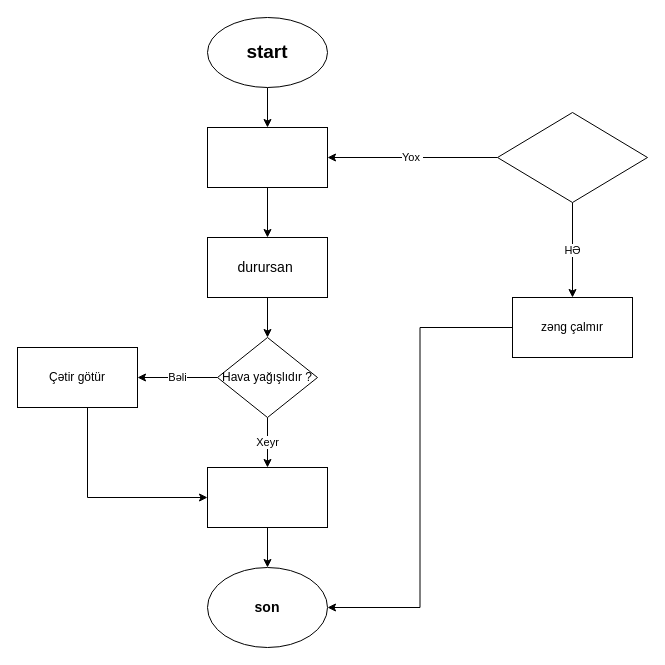
Image size: 665x665. Some labels were removed from this diagram. The centre of each missing label's shape, as x and y in pixels:
"Evdən çıx" goes at point (267, 497).
"Həftəsonudur ?" goes at point (572, 157).
"zəng çalır" goes at point (267, 157).
